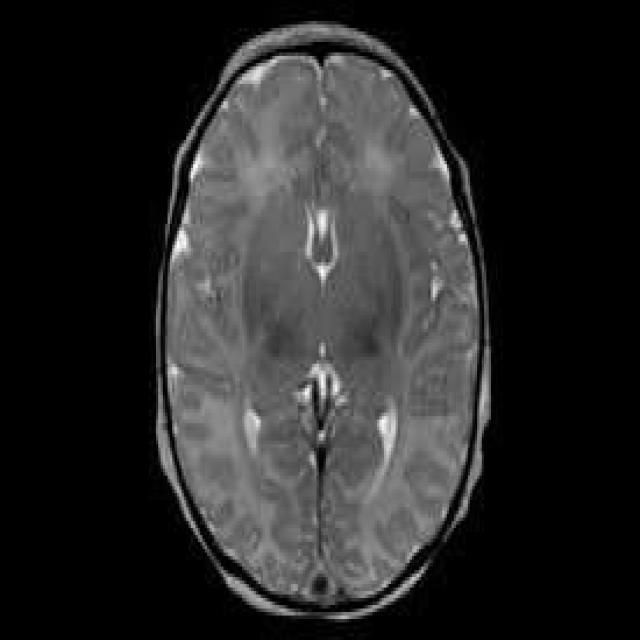notumor: (151, 21, 493, 626)
